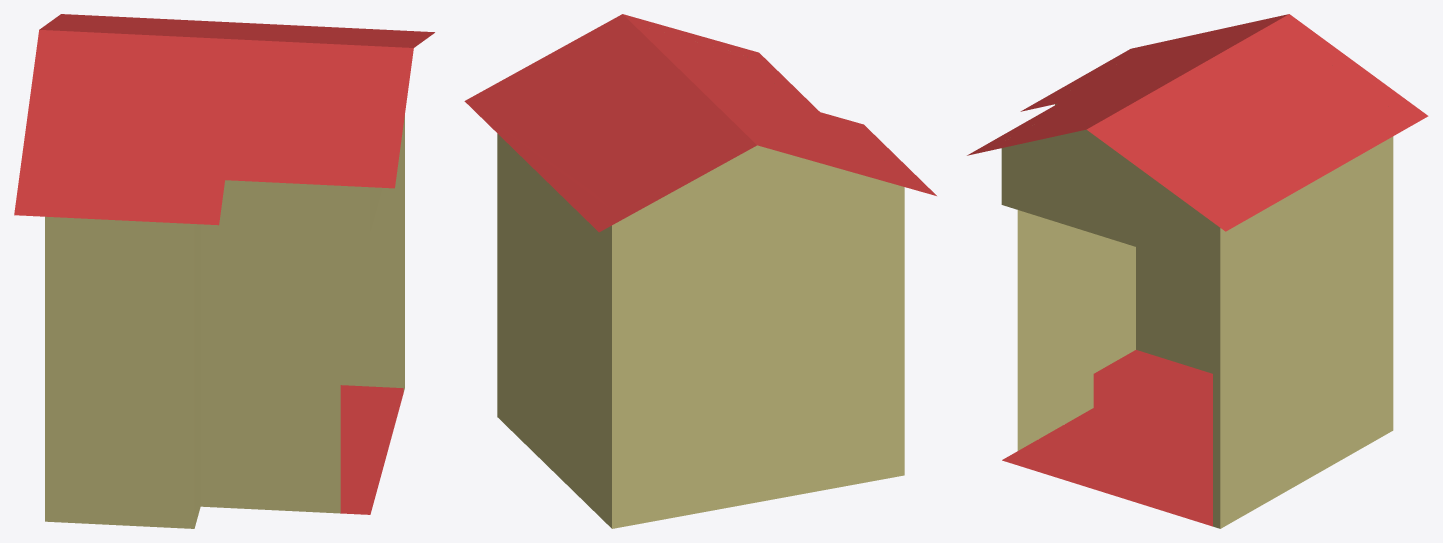
The picture shows the model from 3 angles, left to right: view 1: azimuth 30°, elevation 25°; view 2: azimuth 150°, elevation 25°; view 3: azimuth 270°, elevation 25°; orthographic projection. The views are drawn at different scales.
Parts seen in each view (by area): view 1: group_5, group_3, group_4, group_6; view 2: group_5, group_3, group_4; view 3: group_5, group_3, group_6, group_4.
Part boxes in pixels (x1,y1,x2,y2): group_5: (45,115,404,528); group_3: (19,17,434,225); group_4: (14,14,427,224); group_6: (340,385,403,514); group_5: (497,133,904,528); group_3: (464,14,903,221); group_4: (465,14,936,232); group_5: (1001,103,1393,528); group_3: (1002,14,1392,231); group_6: (1002,350,1212,526); group_4: (967,14,1428,230).
Bounding box in the file's own units: 14.72 × 13.76 × 12.17.
